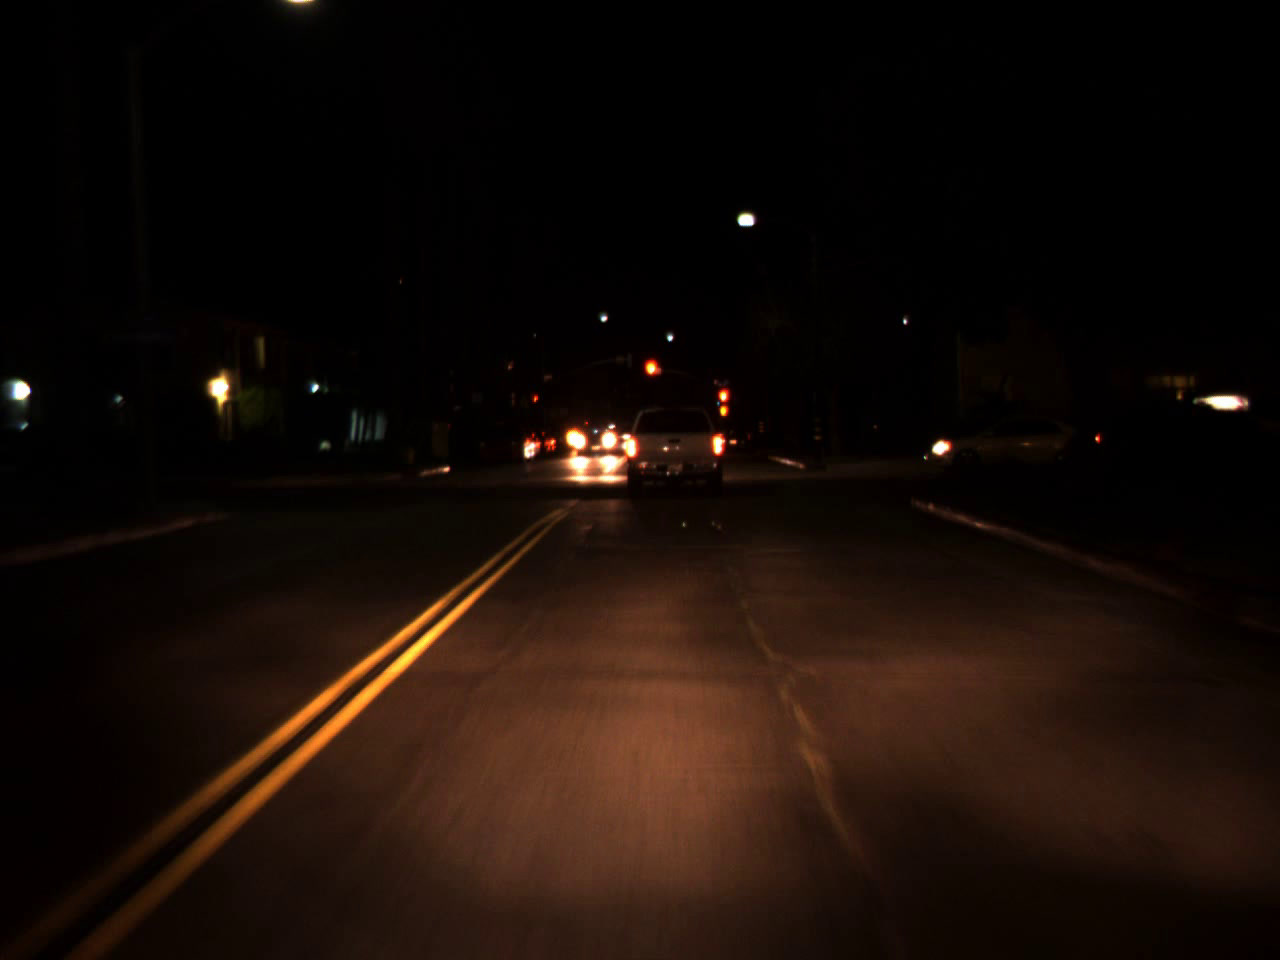stop: (639, 354, 664, 399), (716, 387, 729, 419)
